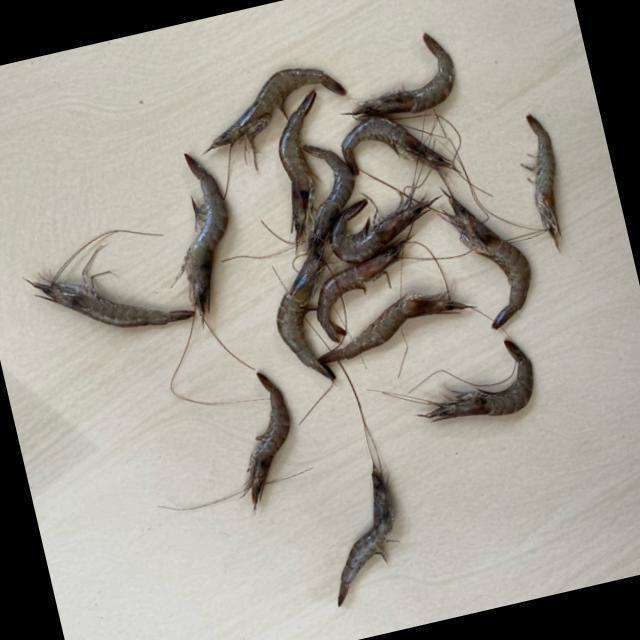shrimp: (439, 191, 531, 329), (207, 67, 346, 150), (320, 292, 475, 364), (317, 239, 407, 342), (420, 340, 534, 421), (348, 32, 455, 116), (276, 242, 335, 380), (179, 154, 228, 316), (340, 471, 394, 607), (330, 195, 437, 263), (29, 282, 194, 326), (242, 372, 290, 512), (342, 116, 454, 174), (279, 90, 316, 245), (521, 113, 562, 248), (304, 145, 355, 250)
